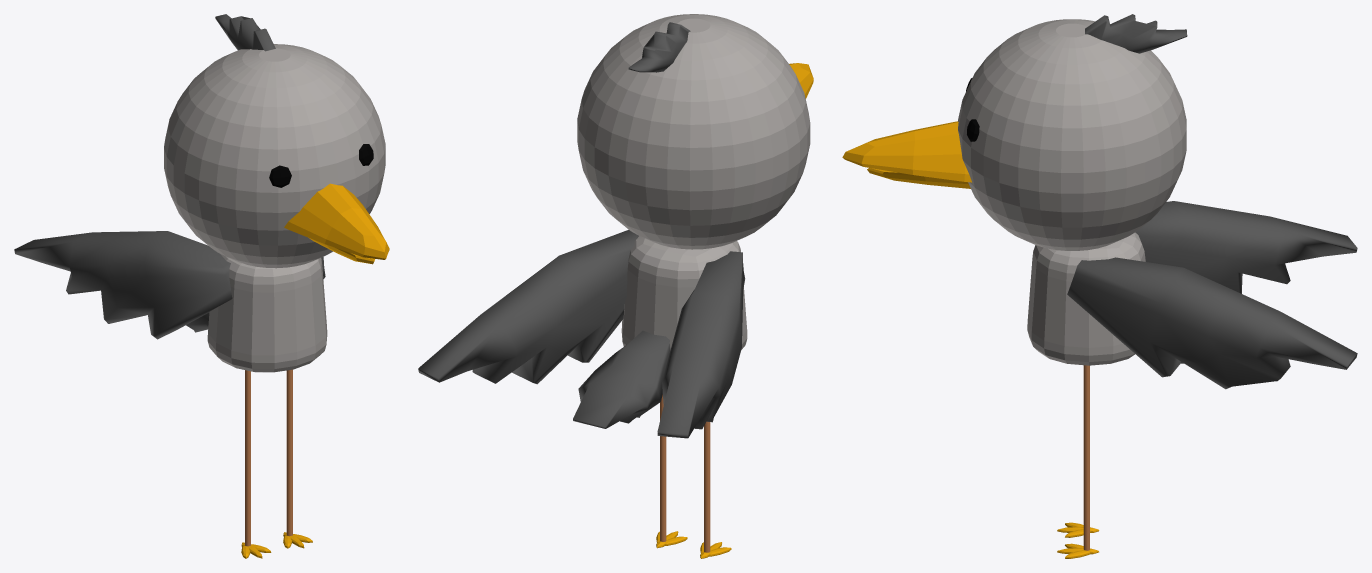
Rendered from 재준몬.glb.
The picture shows the model from 3 angles, left to right: view 1: azimuth 30°, elevation 25°; view 2: azimuth 150°, elevation 25°; view 3: azimuth 270°, elevation 25°; orthographic projection. The views are drawn at different scales.
Parts seen in each view (by area): view 1: 빌3/재준몬; view 2: 빌3/재준몬; view 3: 빌3/재준몬.
Boxes of the visible parts, x1,y1,x2,y2 form: 빌3/재준몬: [14, 14, 389, 558]; 빌3/재준몬: [418, 14, 813, 558]; 빌3/재준몬: [842, 14, 1357, 558].
Bounding box in the file's own units: 1.45 × 2.75 × 2.44.
